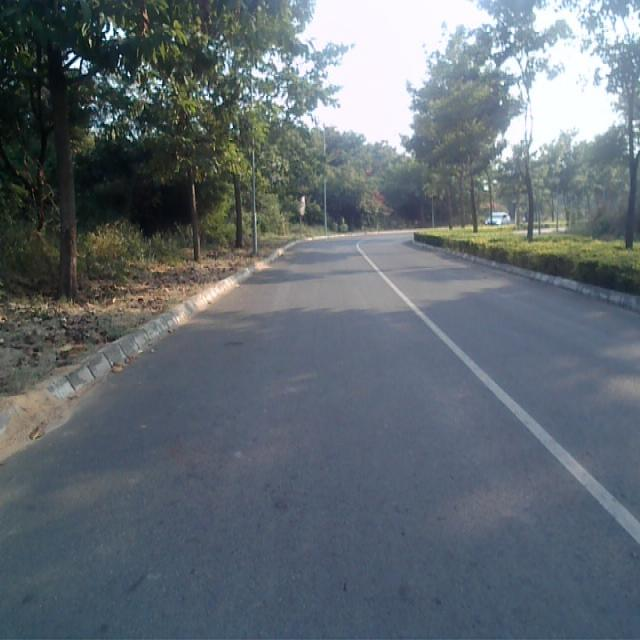lane: (0, 240, 640, 640)
